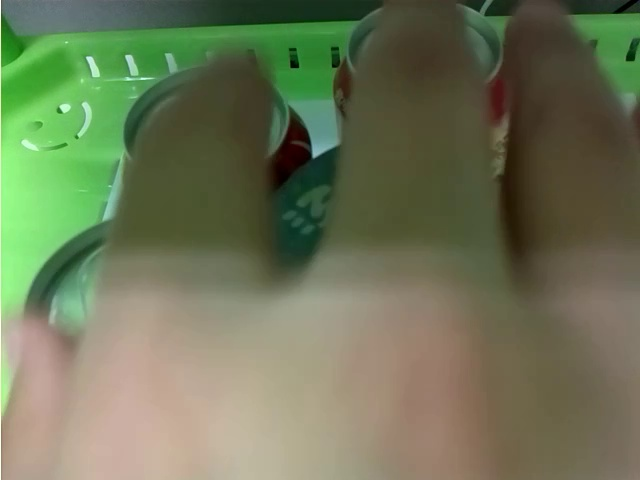cocacola: (118, 65, 311, 182), (334, 5, 511, 130)
hand: (12, 16, 640, 480)
